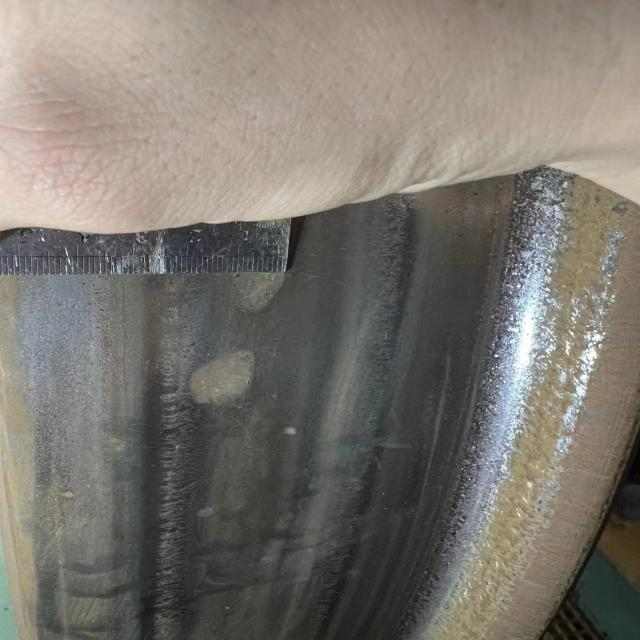geshang: (182, 344, 266, 408), (225, 272, 285, 313)
